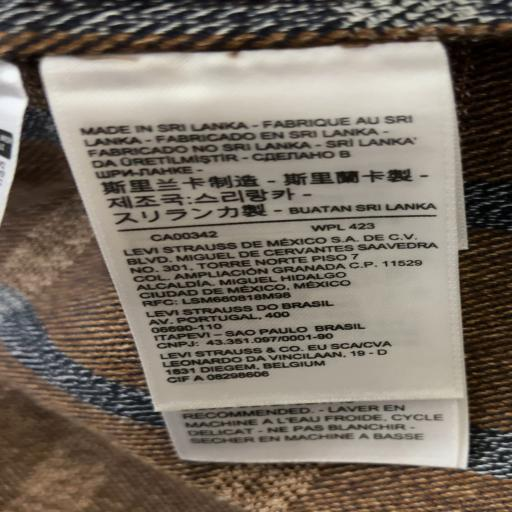paper: (5, 19, 507, 496)
